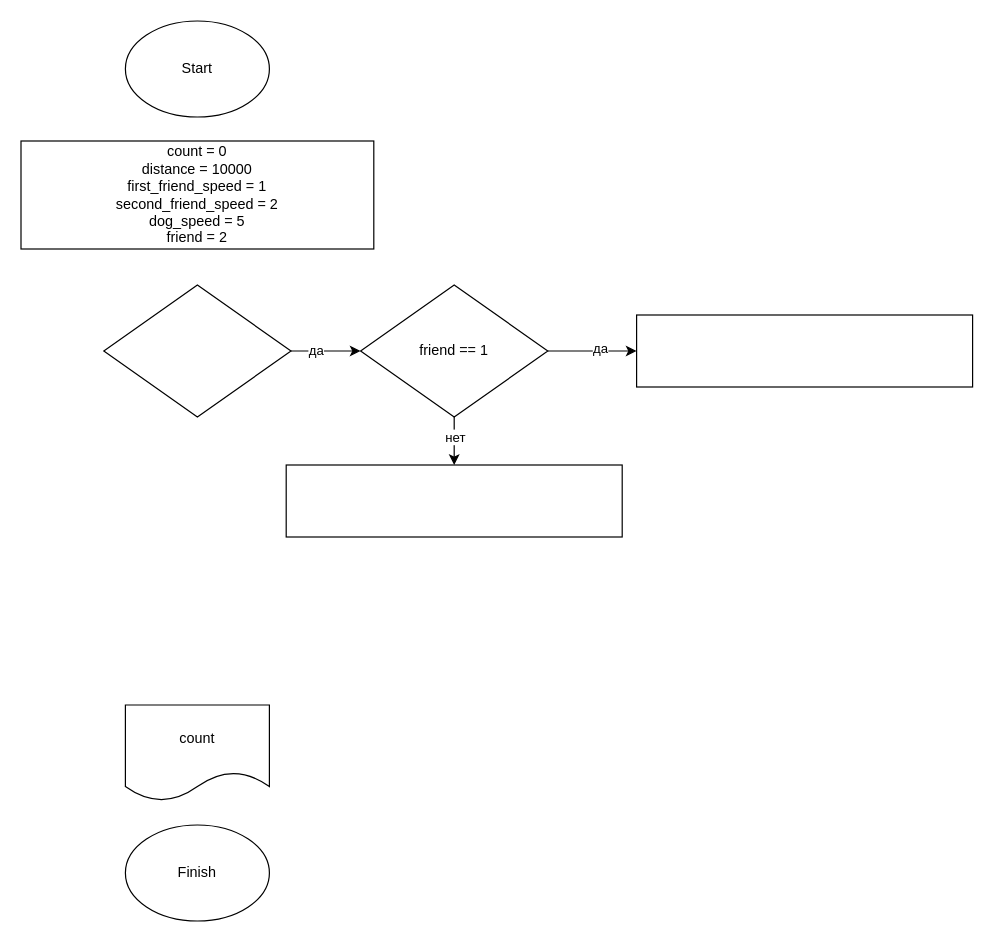
This 994x942 diagram has some shape labels left out. Here are the shapes that lost their labels. From the top down, the box of each, then its label:
(103, 284, 291, 417): distance > 10
(635, 314, 973, 387): time = distance / (first_friend_speed + dog_speed) friend = 2
(285, 464, 622, 537): time = distance / (second_friend_speed + dog_speed) friend = 1
